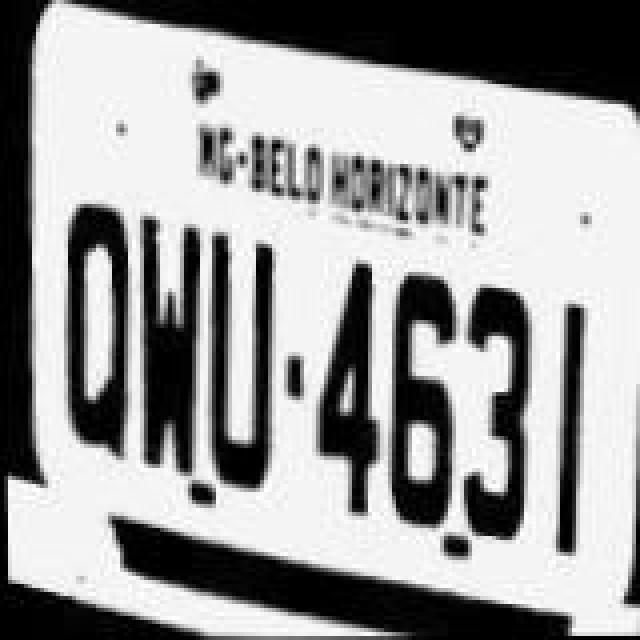1: (536, 294, 604, 562)
3: (452, 270, 540, 554)
4: (300, 252, 384, 536)
6: (372, 266, 464, 538)
Q: (42, 192, 142, 464)
U: (188, 214, 280, 494)
W: (122, 200, 206, 476)
